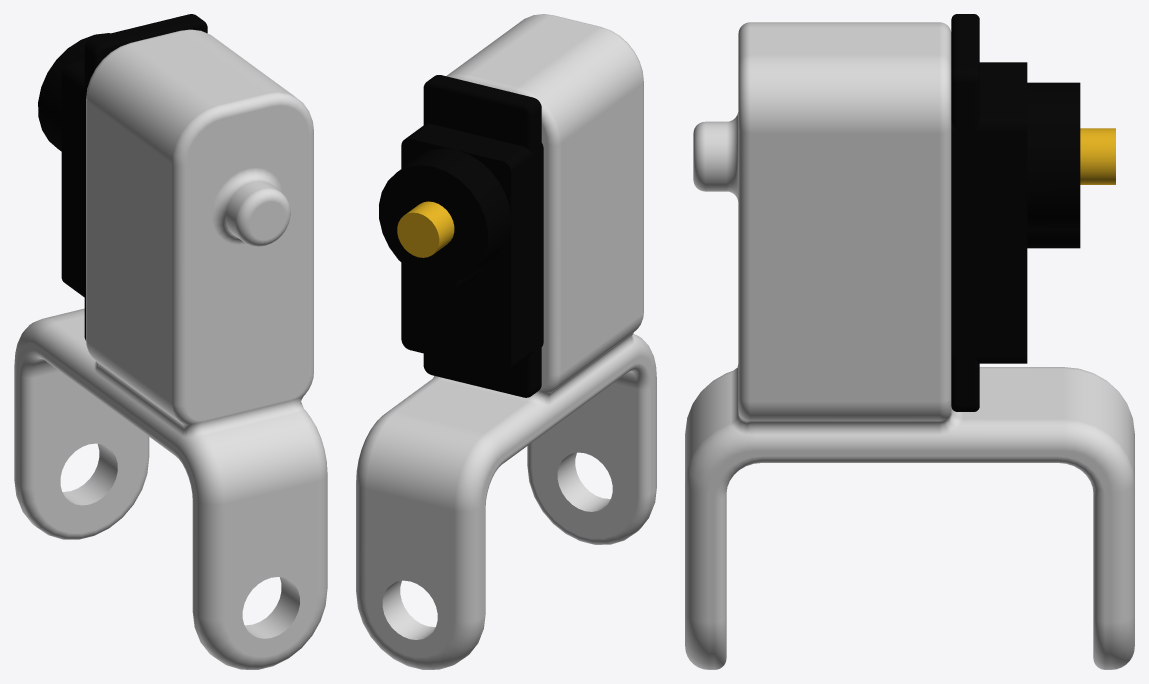
The model's file is ARM.gltf.
The picture shows the model from 3 angles, left to right: view 1: azimuth 30°, elevation 25°; view 2: azimuth 150°, elevation 25°; view 3: azimuth 270°, elevation 25°; orthographic projection. The views are drawn at different scales.
Parts seen in each view (by area): view 1: Fillet009, Body; view 2: Fillet009, Body; view 3: Fillet009, Body.
Boxes of the visible parts, x1=… form: Fillet009: x1=14, y1=29, x2=327, y2=669; Body: x1=38, y1=14, x2=207, y2=340; Fillet009: x1=356, y1=14, x2=656, y2=669; Body: x1=379, y1=75, x2=543, y2=397; Fillet009: x1=685, y1=22, x2=1134, y2=669; Body: x1=951, y1=14, x2=1115, y2=411.
Size of the model in its own units: 0.0154 by 0.0578 by 0.038.
